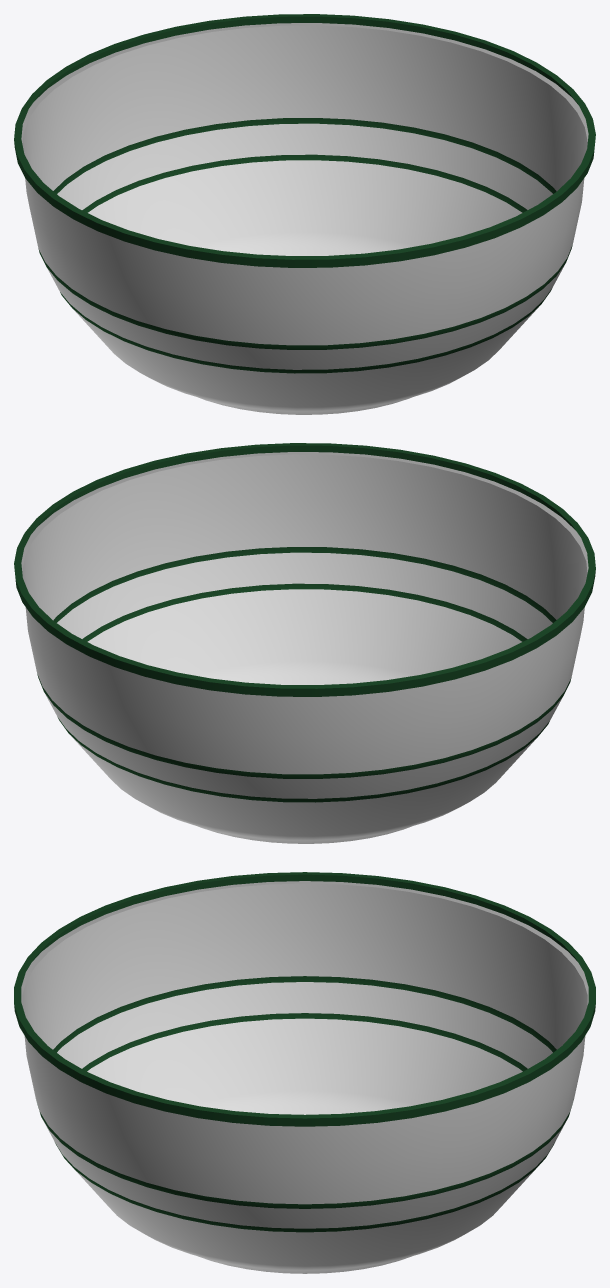
The model's file is AP_bowl01_TL.fbx.
The picture shows the model from 3 angles, top to bottom: view 1: azimuth 30°, elevation 25°; view 2: azimuth 150°, elevation 25°; view 3: azimuth 270°, elevation 25°; orthographic projection.
Parts seen in each view (by area): view 1: pCylinder1; view 2: pCylinder1; view 3: pCylinder1.
Boxes of the visible parts, left/top/right/bottom form: pCylinder1: left=14, top=14, right=595, bottom=414; pCylinder1: left=14, top=443, right=595, bottom=843; pCylinder1: left=14, top=872, right=595, bottom=1273.
Bounding box in the file's own units: 0.0931 × 0.0372 × 0.0929.
